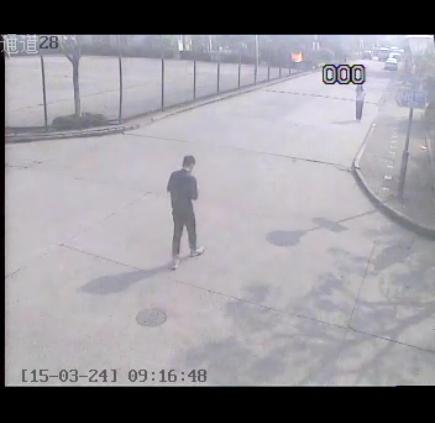person: (161, 143, 213, 280)
